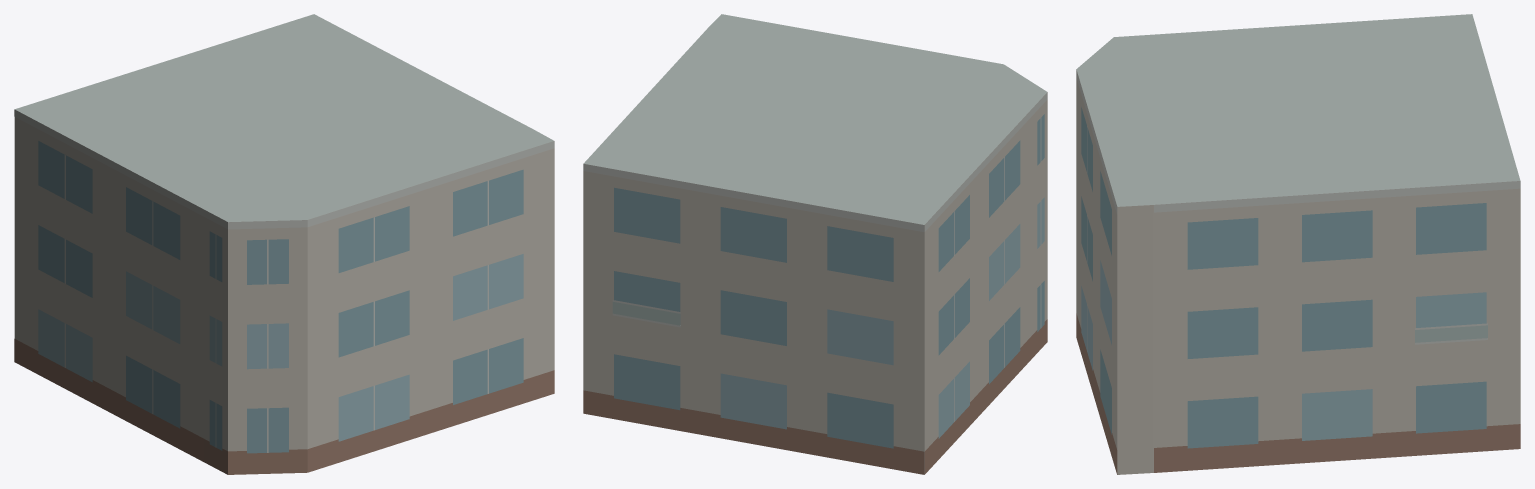
The model's file is survey-upis-33008889.glb.
3 views of the same model, side by side, from view 1: azimuth 30°, elevation 25°; view 2: azimuth 150°, elevation 25°; view 3: azimuth 270°, elevation 25° (orthographic). The views are drawn at different scales.
Visible parts, largest first — view 1: survey-upis-33008889.tmp; view 2: survey-upis-33008889.tmp; view 3: survey-upis-33008889.tmp.
Part boxes in pixels (x1,y1,x2,y2): survey-upis-33008889.tmp: [14, 14, 554, 474]; survey-upis-33008889.tmp: [583, 14, 1047, 474]; survey-upis-33008889.tmp: [1076, 14, 1520, 474].
Bounding box in the file's own units: 12.97 × 8.4 × 12.63.
